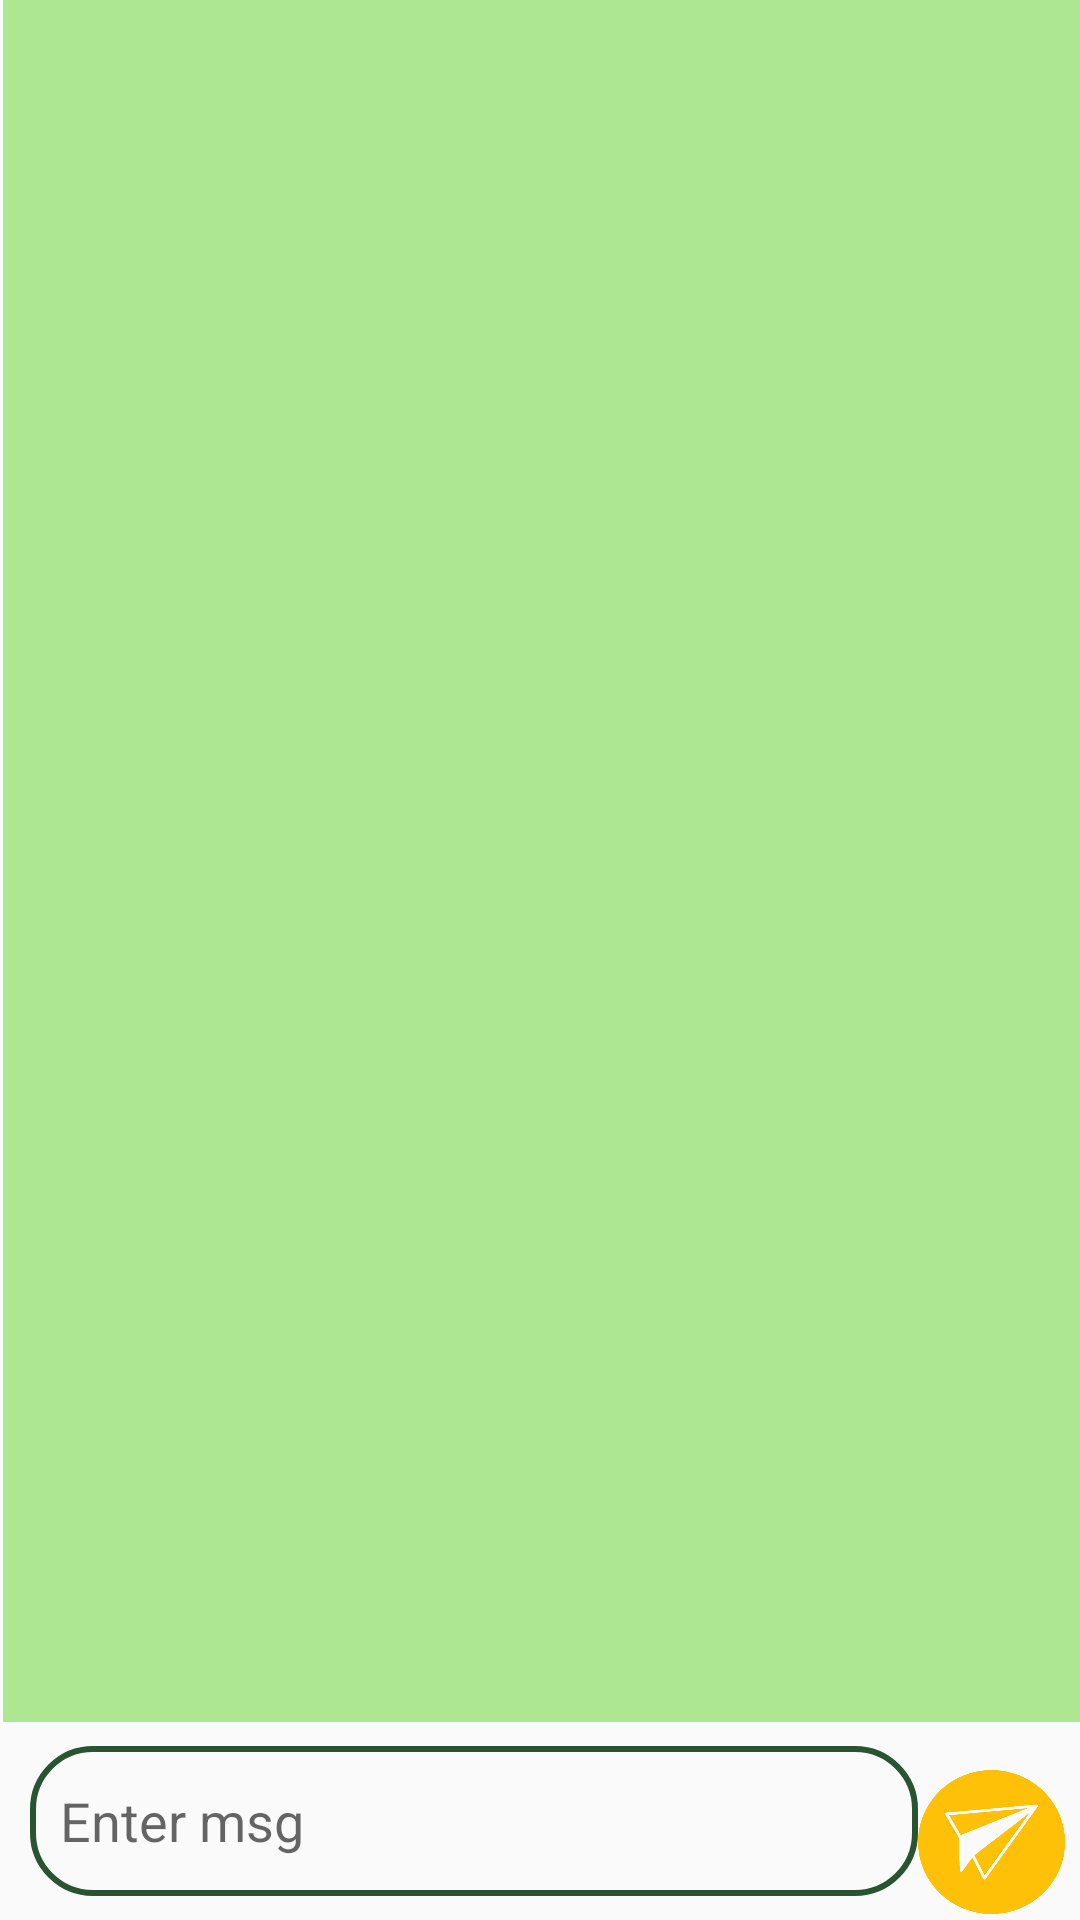

Icons on this 1080 × 1920 Android screen, each with its box as (x1, y1, x2, y2):
sendd: (918, 1770, 1065, 1914)
